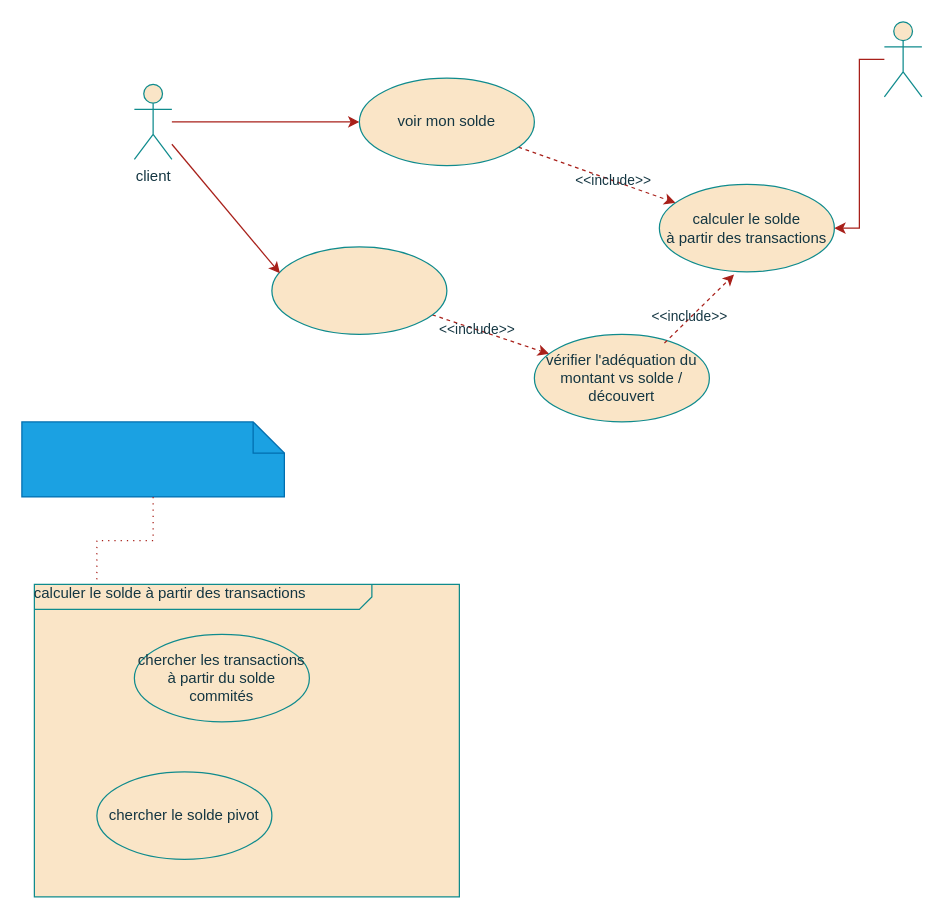
Some shapes in this 944 by 919 pixel diagram are drawn without their labels. Here are the shapes that lost their labels. From the top down, the centre of each, then its label:
At [902,59]: "OPS".
At [359,290]: "retirer un montant".
At [152,459]: "dans un autre doc de type SADT (modèle boite noire)".
